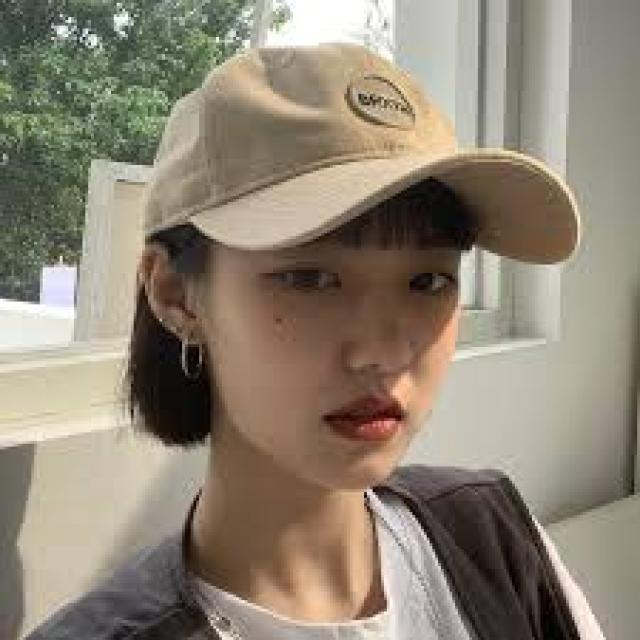cap: (132, 19, 614, 307)
